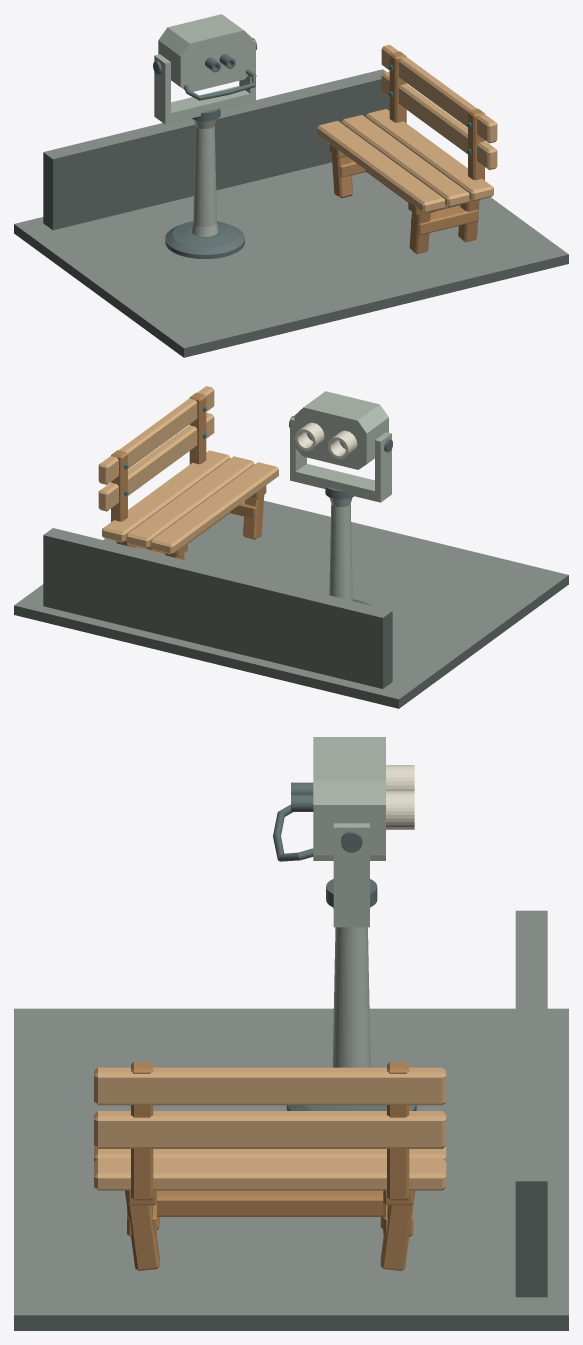
The picture shows the model from 3 angles, top to bottom: view 1: azimuth 30°, elevation 25°; view 2: azimuth 150°, elevation 25°; view 3: azimuth 270°, elevation 25°; orthographic projection. The views are drawn at different scales.
Parts seen in each view (by area): view 1: SCENE_ONLY__DisplayFloor, bench__harbor-bench-01, viewer__WholeBroadClosedShoulderedHead, viewer__WholeOpenUTrunnionFork, viewer__WholeThickPedestal, viewer__WholeBroadGroundedCircularFoot, viewer__WholeRearArchedGraspFrame; view 2: SCENE_ONLY__DisplayFloor, bench__harbor-bench-01, viewer__WholeBroadClosedShoulderedHead, viewer__WholeOpenUTrunnionFork, viewer__WholeThickPedestal, viewer__WholeDeepFrontBlindMouth_-1, viewer__WholeDeepFrontBlindMouth_1; view 3: SCENE_ONLY__DisplayFloor, bench__harbor-bench-01, viewer__WholeBroadClosedShoulderedHead, viewer__WholeThickPedestal, viewer__WholeOpenUTrunnionFork, viewer__WholeDeepFrontBlindMouth_-1, viewer__WholeRearArchedGraspFrame, viewer__WholeDeepFrontBlindMouth_1.
Boxes of the visible parts, x1,y1,x2,y2 form: SCENE_ONLY__DisplayFloor: [14, 69, 568, 357]; bench__harbor-bench-01: [317, 44, 497, 254]; viewer__WholeBroadClosedShoulderedHead: [158, 14, 252, 91]; viewer__WholeOpenUTrunnionFork: [154, 39, 255, 124]; viewer__WholeThickPedestal: [191, 119, 218, 236]; viewer__WholeBroadGroundedCircularFoot: [165, 221, 244, 258]; viewer__WholeRearArchedGraspFrame: [183, 69, 256, 100]; SCENE_ONLY__DisplayFloor: [14, 500, 568, 708]; bench__harbor-bench-01: [98, 386, 278, 559]; viewer__WholeBroadClosedShoulderedHead: [294, 391, 388, 469]; viewer__WholeOpenUTrunnionFork: [290, 417, 391, 502]; viewer__WholeThickPedestal: [329, 497, 352, 600]; viewer__WholeDeepFrontBlindMouth_-1: [295, 422, 324, 451]; viewer__WholeDeepFrontBlindMouth_1: [328, 430, 357, 459]; SCENE_ONLY__DisplayFloor: [14, 910, 568, 1330]; bench__harbor-bench-01: [94, 1062, 446, 1270]; viewer__WholeBroadClosedShoulderedHead: [313, 737, 385, 860]; viewer__WholeThickPedestal: [332, 907, 370, 1067]; viewer__WholeOpenUTrunnionFork: [333, 823, 369, 927]; viewer__WholeDeepFrontBlindMouth_-1: [386, 791, 414, 829]; viewer__WholeRearArchedGraspFrame: [273, 804, 313, 861]; viewer__WholeDeepFrontBlindMouth_1: [386, 765, 414, 790].
Size of the model in its own units: 3.4 by 1.88 by 2.6.
